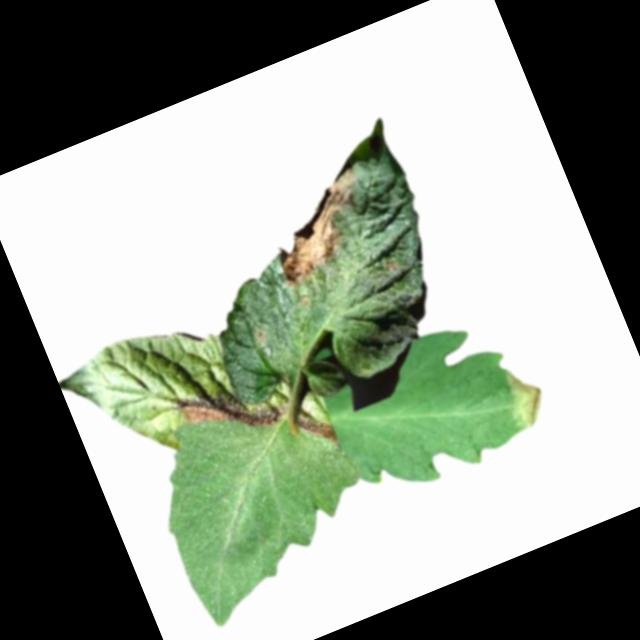Late_blight: (253, 166, 384, 290), (177, 369, 286, 455), (500, 360, 553, 430), (297, 408, 339, 455)
healthy: (133, 374, 393, 633)
